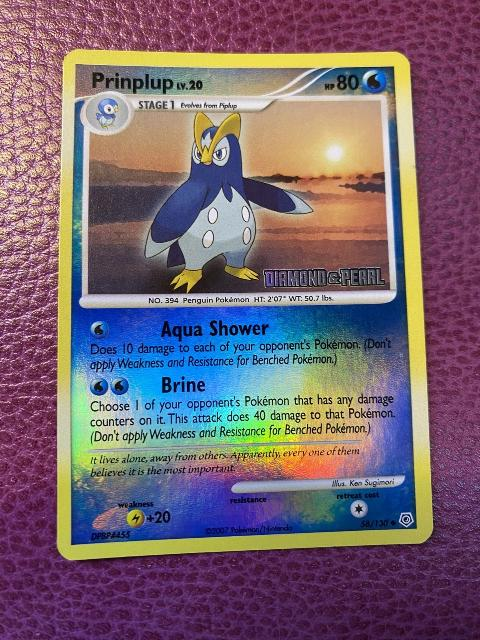Card: (52, 44, 440, 567)
Name: (87, 67, 177, 95)
